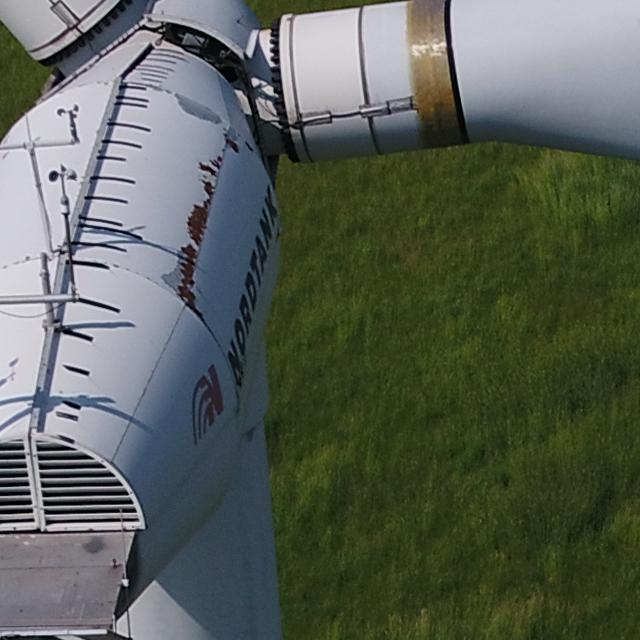damage: (173, 90, 224, 126), (183, 195, 216, 247), (175, 241, 199, 311), (193, 313, 228, 354), (194, 176, 218, 199), (225, 136, 242, 157), (194, 159, 218, 173), (212, 154, 230, 172)
